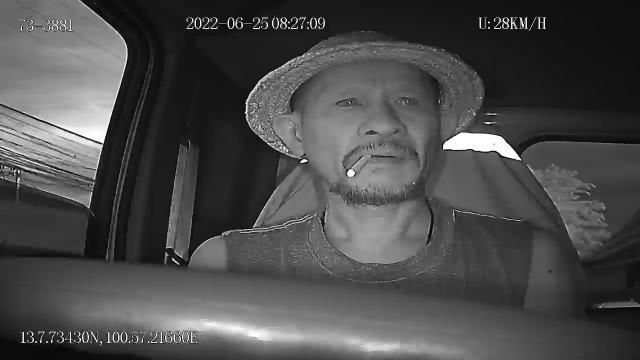SafeDriving: (330, 90, 369, 114), (388, 87, 424, 112)
Smoking: (348, 154, 368, 180)
